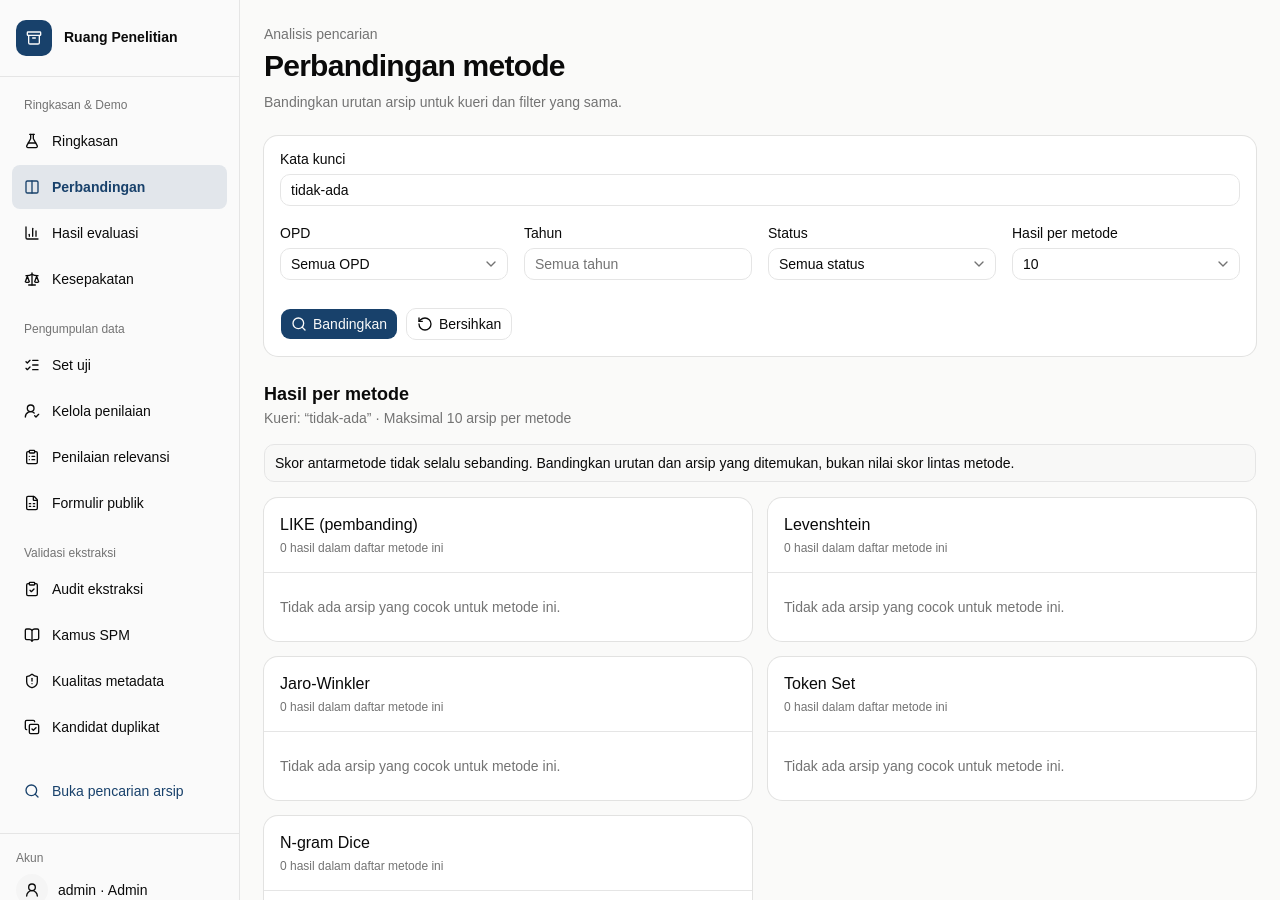
Test: perbandingan metode React › menampilkan semua metode saat hasil kosong dan dapat dibersihkan
Click the button "Bersihkan" at (459, 324), box [406,308,512,340]
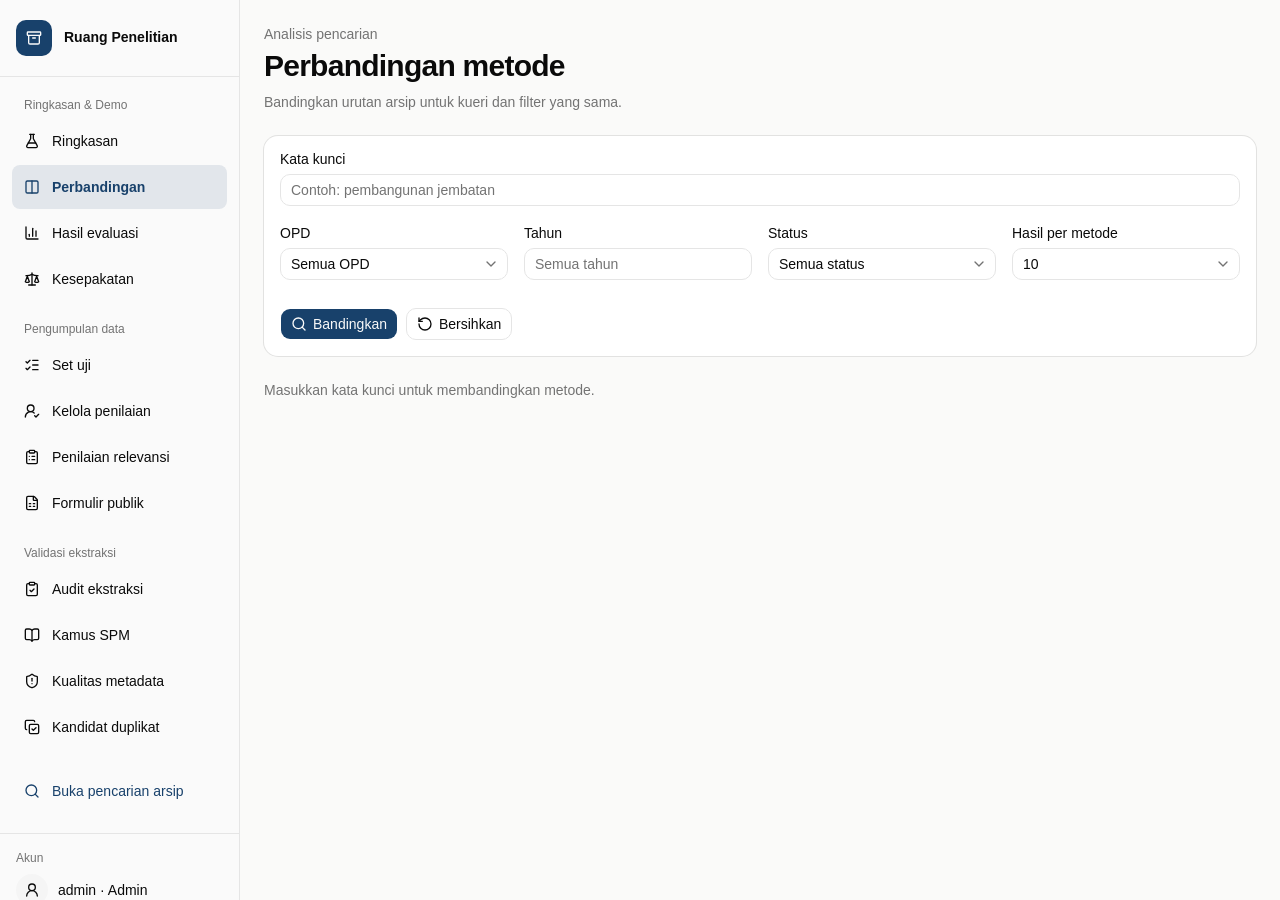
Now the text "Masukkan kata kunci untuk membandingkan metode." is shown, box [264,382,595,398]
